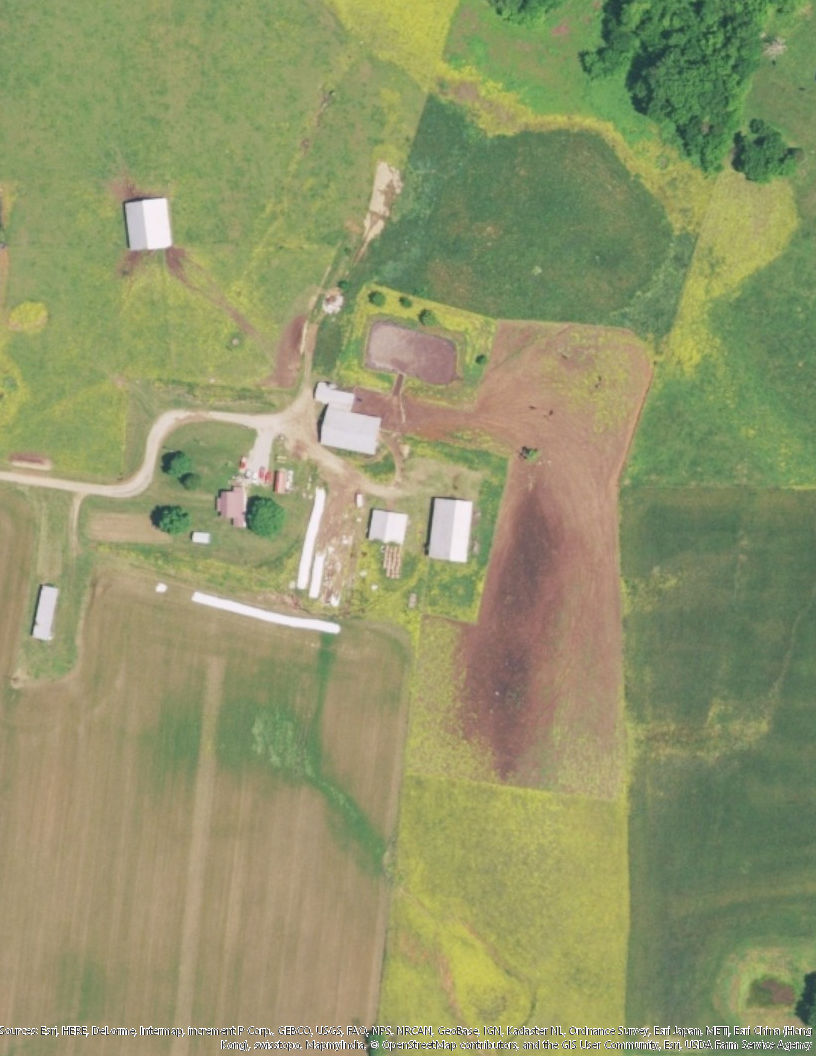cafo: (306, 377, 384, 459), (115, 191, 188, 266), (427, 489, 476, 565)
